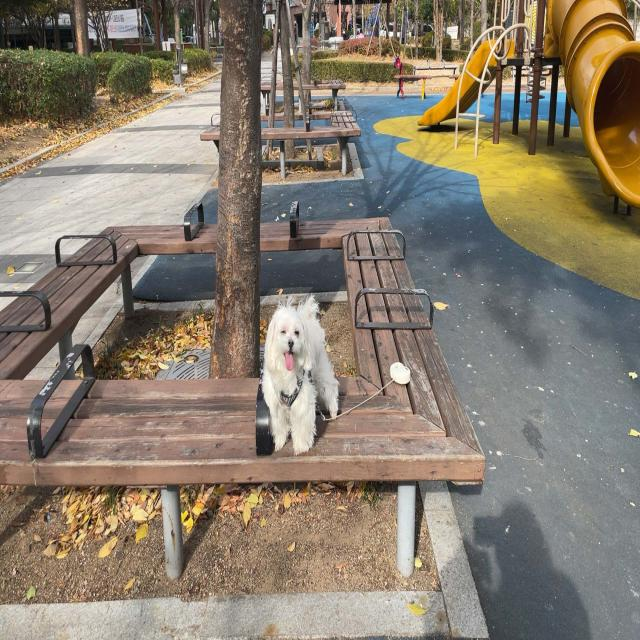Dog: (263, 295, 340, 455)
